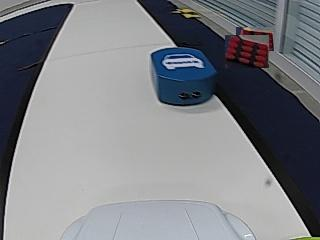safety: (162, 53, 205, 69)
